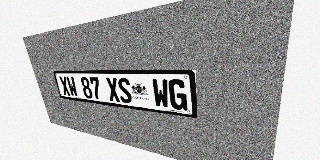7: (89, 77, 103, 100)
8: (80, 77, 93, 99)
G: (168, 79, 188, 111)
S: (117, 78, 133, 104)
W: (152, 79, 170, 109), (66, 76, 79, 97)
X: (105, 77, 121, 102), (59, 76, 71, 96)
